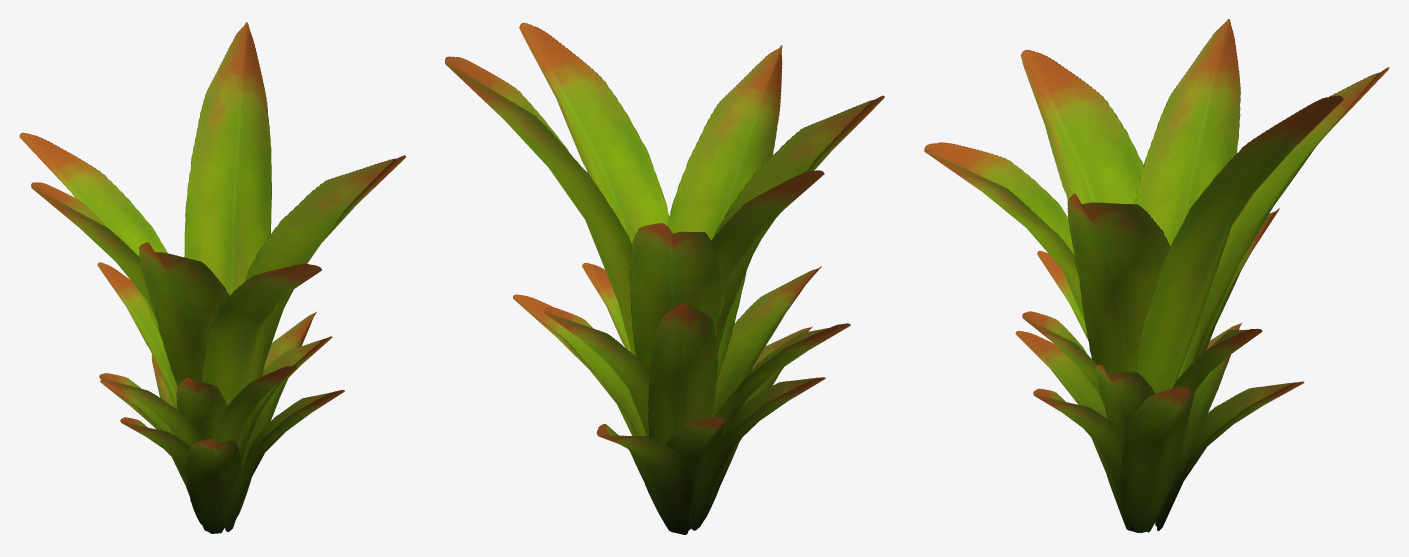
Rendered from Plant_1_Big.glb.
3 renders of one model, left to right at view 1: azimuth 30°, elevation 25°; view 2: azimuth 150°, elevation 25°; view 3: azimuth 270°, elevation 25°, orthographic. The views are drawn at different scales.
Parts seen in each view (by area): view 1: Plant_1_Big; view 2: Plant_1_Big; view 3: Plant_1_Big.
Boxes of the visible parts, <box> form: Plant_1_Big: <box>19,22,405,533</box>; Plant_1_Big: <box>445,22,884,534</box>; Plant_1_Big: <box>924,19,1389,533</box>.
Bounding box in the file's own units: 1.81 × 2.35 × 1.95.
1 material, 1 textured.
